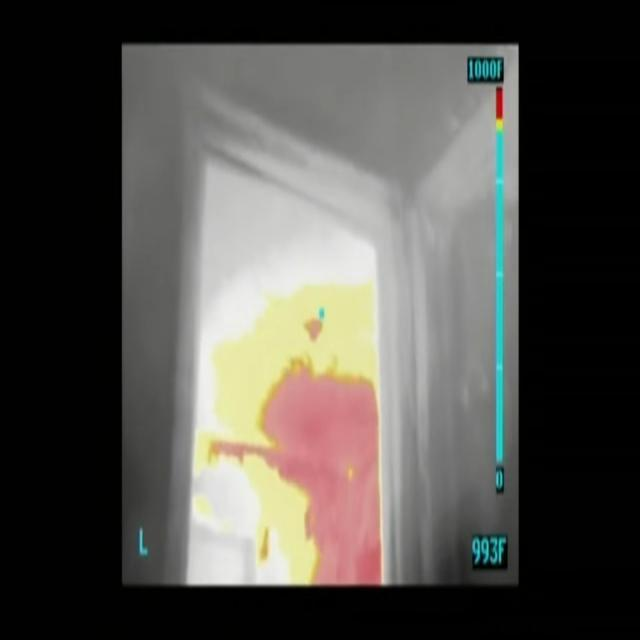fire: (253, 314, 383, 586)
